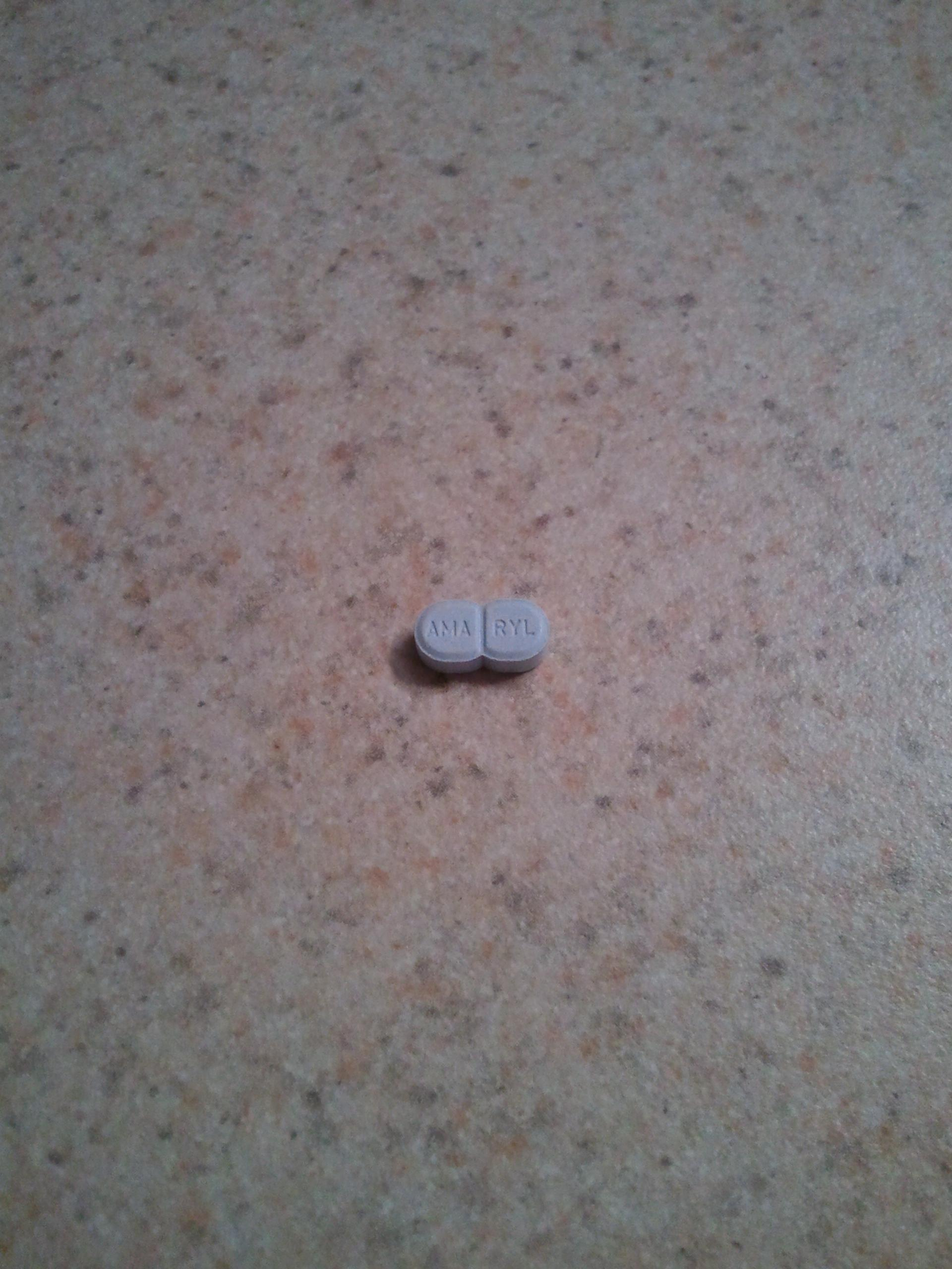Pill: (397, 585, 553, 688)
